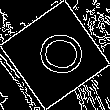O_W: (26, 29, 84, 81)
